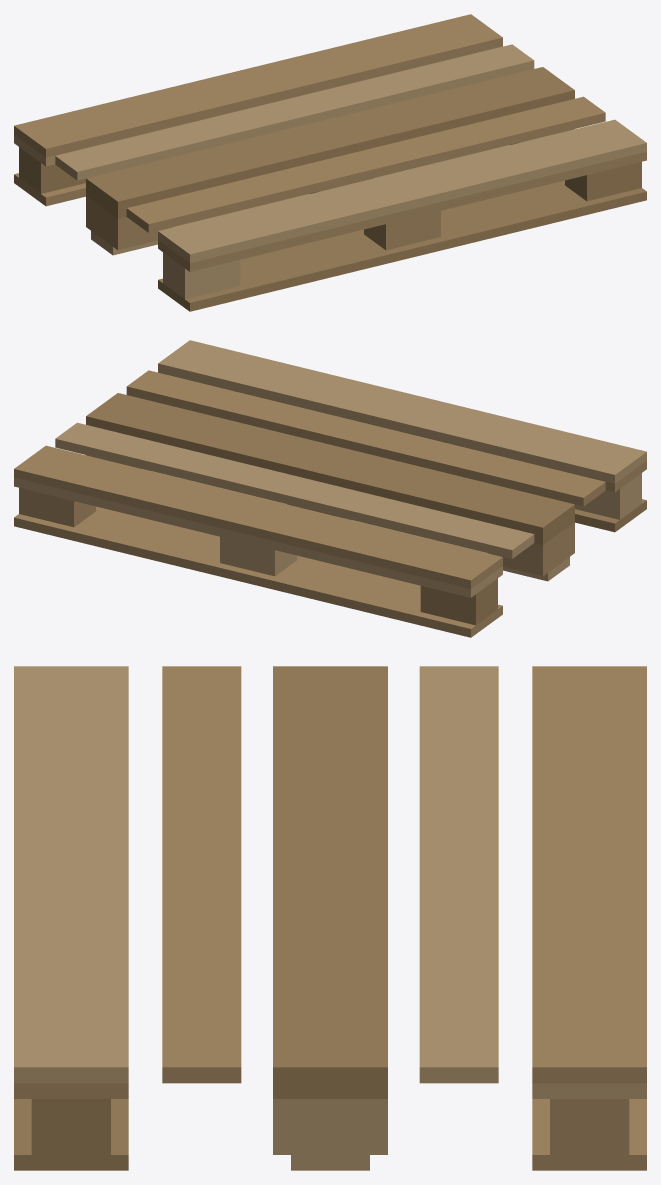
Rendered from pallet.glb.
3 views of the same model, one above another, from view 1: azimuth 30°, elevation 25°; view 2: azimuth 150°, elevation 25°; view 3: azimuth 270°, elevation 25° (orthographic). The views are drawn at different scales.
Parts seen in each view (by area): view 1: pallet; view 2: pallet; view 3: pallet.
Boxes of the visible parts, x1,y1,x2,y2 form: pallet: (14, 14, 646, 311); pallet: (14, 340, 646, 637); pallet: (14, 666, 646, 1170).
Size of the model in its own units: 1.2 by 0.144 by 0.8.
Materials: 1 (1 with a texture image).
